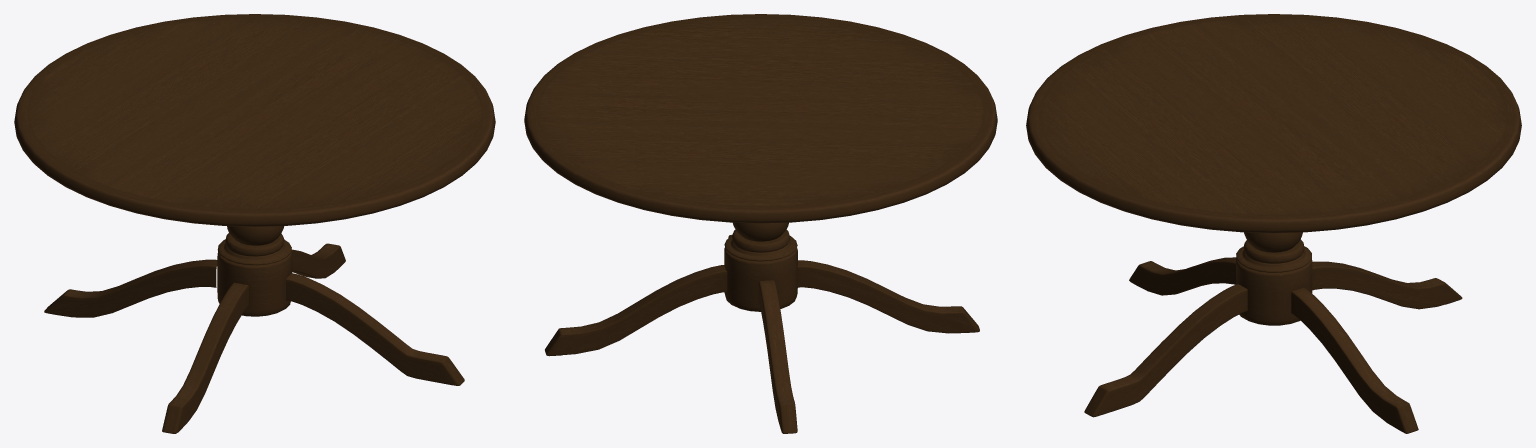
File: walnut.glb
3 renders of one model, left to right at view 1: azimuth 30°, elevation 25°; view 2: azimuth 150°, elevation 25°; view 3: azimuth 270°, elevation 25°, orthographic. The views are drawn at different scales.
Visible parts, largest first — view 1: krosna; view 2: krosna; view 3: krosna.
Boxes of the visible parts, box(x1,y1,x2,y2) form: krosna: box(14, 14, 495, 433); krosna: box(524, 14, 997, 433); krosna: box(1026, 14, 1521, 433).
Size of the model in its own units: 1.4 by 0.75 by 1.4.
Materials: 1 (1 with a texture image).
